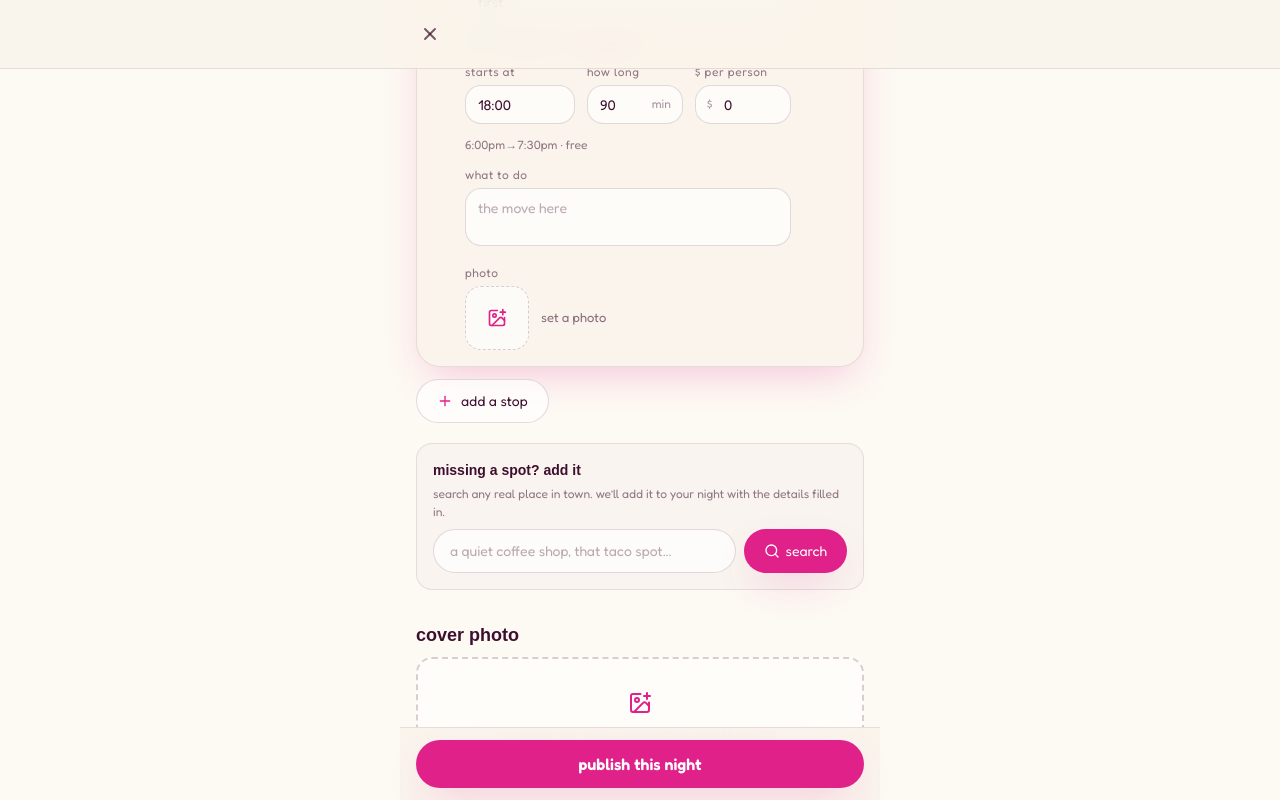
it: chronological stop ordering › (a) adding a stop after an 18:00+90min stop defaults the new stop to 19:30
(page scrolled)
Click the button "add a stop". click: (482, 401)
box: [416,379,549,423]
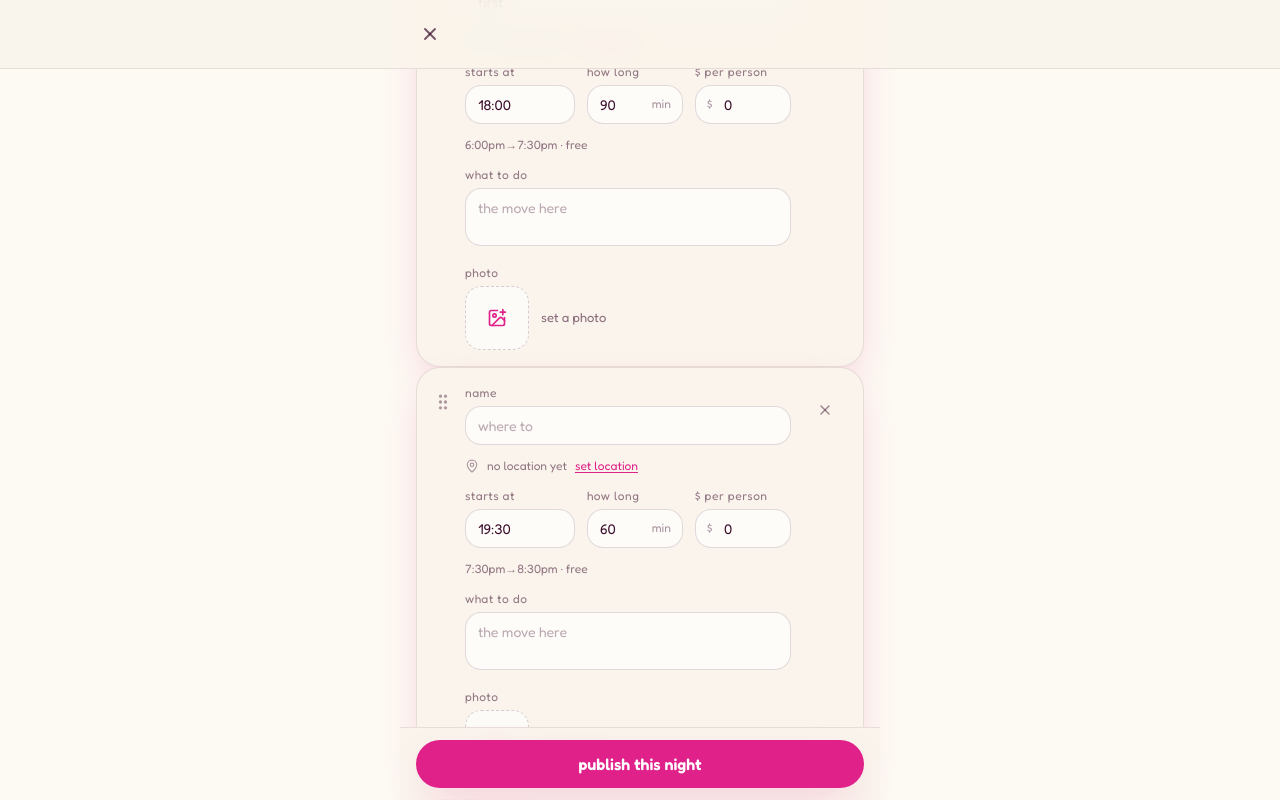
Check: the 2nd field labelled "starts at" holds "19:30", box [465,509,575,548]
